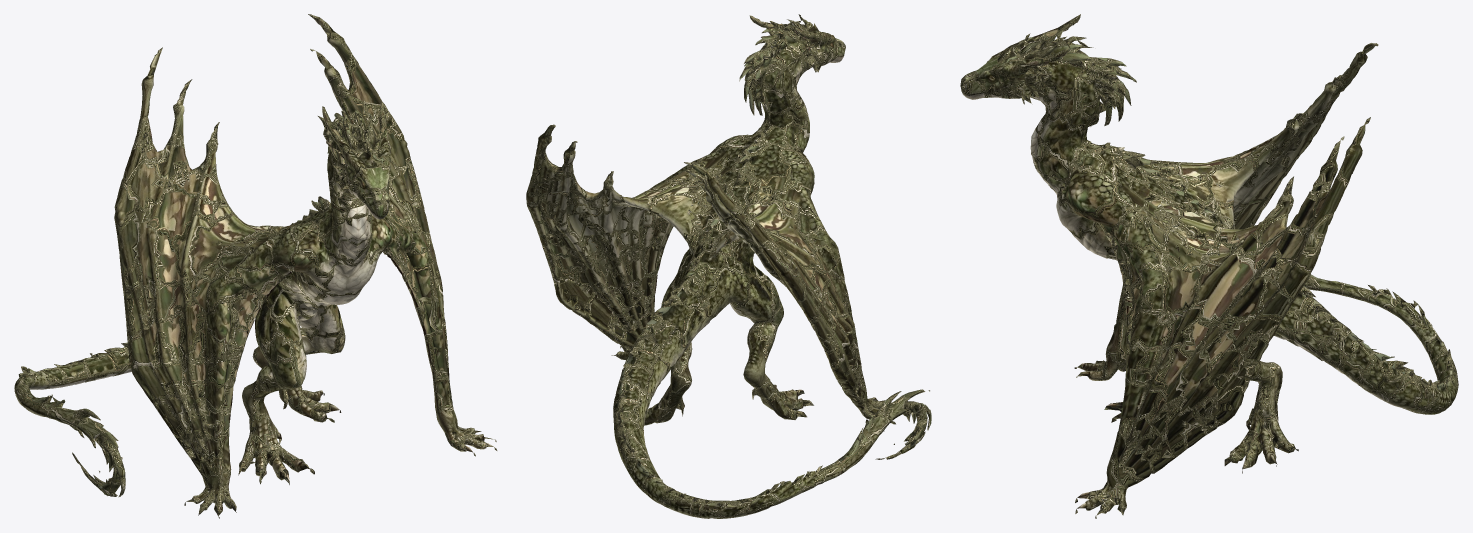
The model's file is forest-wyvern-display.glb.
The picture shows the model from 3 angles, left to right: view 1: azimuth 30°, elevation 25°; view 2: azimuth 150°, elevation 25°; view 3: azimuth 270°, elevation 25°; orthographic projection. The views are drawn at different scales.
Bounding box in the file's own units: 1.71 × 1.73 × 1.9.
Materials: 1 (1 with a texture image).
